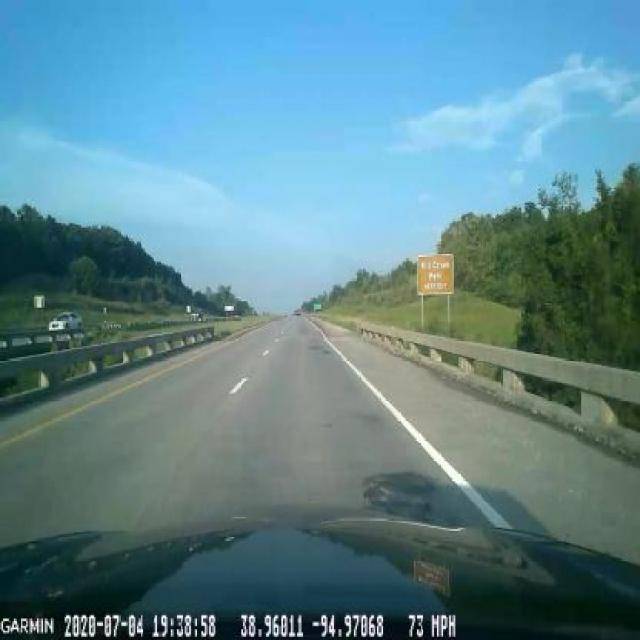Pothole: (358, 464, 456, 522)
